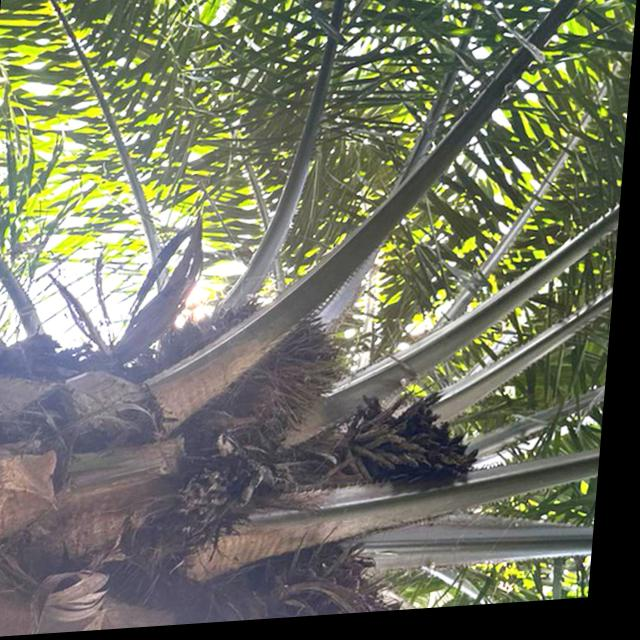unripe: (163, 291, 357, 431), (188, 535, 423, 628)
